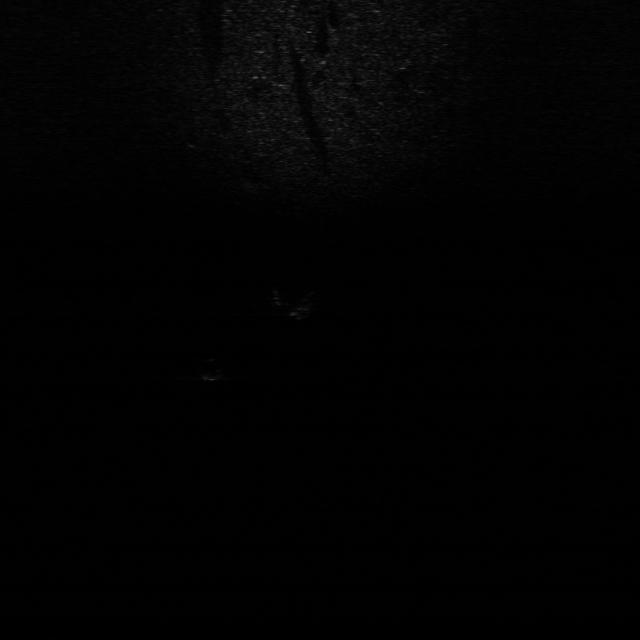ball: (190, 356, 236, 384)
human body: (274, 278, 318, 324)
